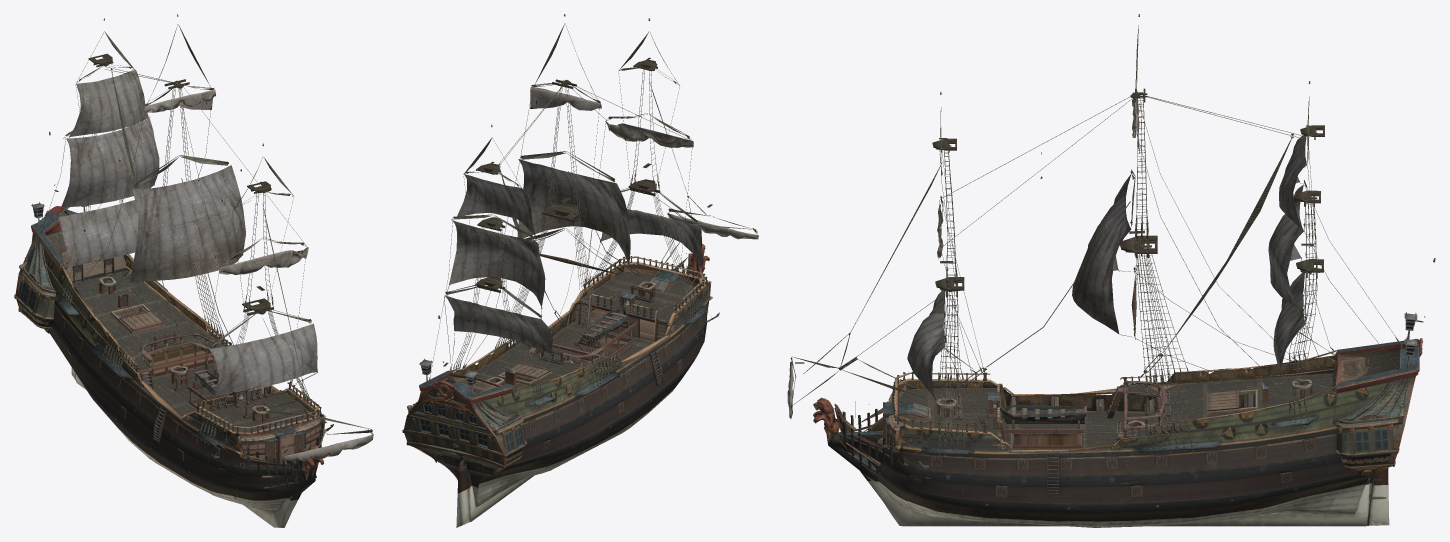
File: ship_pinnace.glb
3 renders of one model, left to right at view 1: azimuth 30°, elevation 25°; view 2: azimuth 150°, elevation 25°; view 3: azimuth 270°, elevation 25°, orthographic. The views are drawn at different scales.
Parts seen in each view (by area): view 1: ship_pinnace_sails, ship_pinnace_hull, ship_pinnace_deck, ship_pinnace_rigging, ship_pinnace_details, ship_pinnace_aft, ship_pinnace_interior; view 2: ship_pinnace_sails, ship_pinnace_hull, ship_pinnace_rigging, ship_pinnace_deck, ship_pinnace_aft, ship_pinnace_details, ship_pinnace_interior; view 3: ship_pinnace_hull, ship_pinnace_rigging, ship_pinnace_deck, ship_pinnace_sails, ship_pinnace_aft, ship_pinnace_interior, ship_pinnace_details.
Boxes of the visible parts, <box> form: ship_pinnace_sails: <box>58,69,373,461</box>; ship_pinnace_hull: <box>43,247,326,527</box>; ship_pinnace_deck: <box>46,211,321,468</box>; ship_pinnace_rigging: <box>41,14,373,458</box>; ship_pinnace_details: <box>31,202,323,480</box>; ship_pinnace_aft: <box>14,206,78,333</box>; ship_pinnace_interior: <box>49,249,322,499</box>; ship_pinnace_sails: <box>444,86,758,354</box>; ship_pinnace_hull: <box>419,253,712,527</box>; ship_pinnace_rigging: <box>428,14,758,409</box>; ship_pinnace_deck: <box>445,256,707,404</box>; ship_pinnace_aft: <box>402,370,526,476</box>; ship_pinnace_details: <box>419,244,709,394</box>; ship_pinnace_interior: <box>453,262,708,463</box>; ship_pinnace_hull: <box>825,350,1389,527</box>; ship_pinnace_rigging: <box>790,14,1435,468</box>; ship_pinnace_deck: <box>862,343,1419,463</box>; ship_pinnace_sails: <box>787,91,1306,418</box>; ship_pinnace_aft: <box>1334,338,1422,477</box>; ship_pinnace_interior: <box>866,355,1384,485</box>; ship_pinnace_details: <box>813,312,1417,495</box>.
Bounding box in the file's own units: 9.53 × 32.55 × 37.43.
7 materials, 7 textured.
